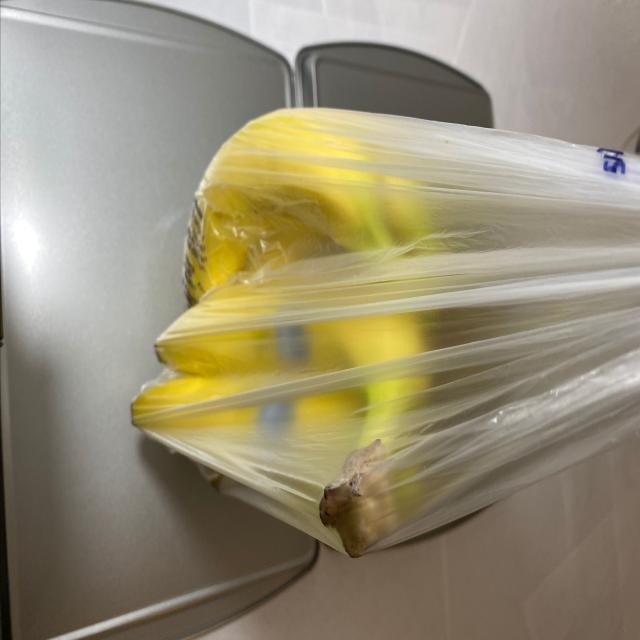banana: (125, 100, 491, 558)
